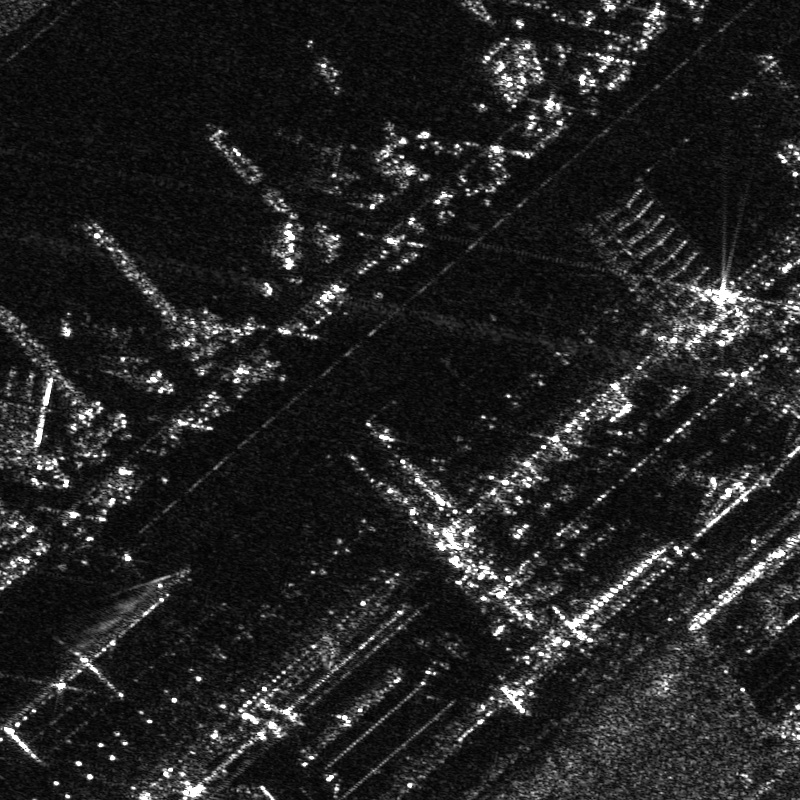Boeing787: (67, 304, 174, 389), (1, 363, 50, 465)
other: (275, 125, 358, 186)
